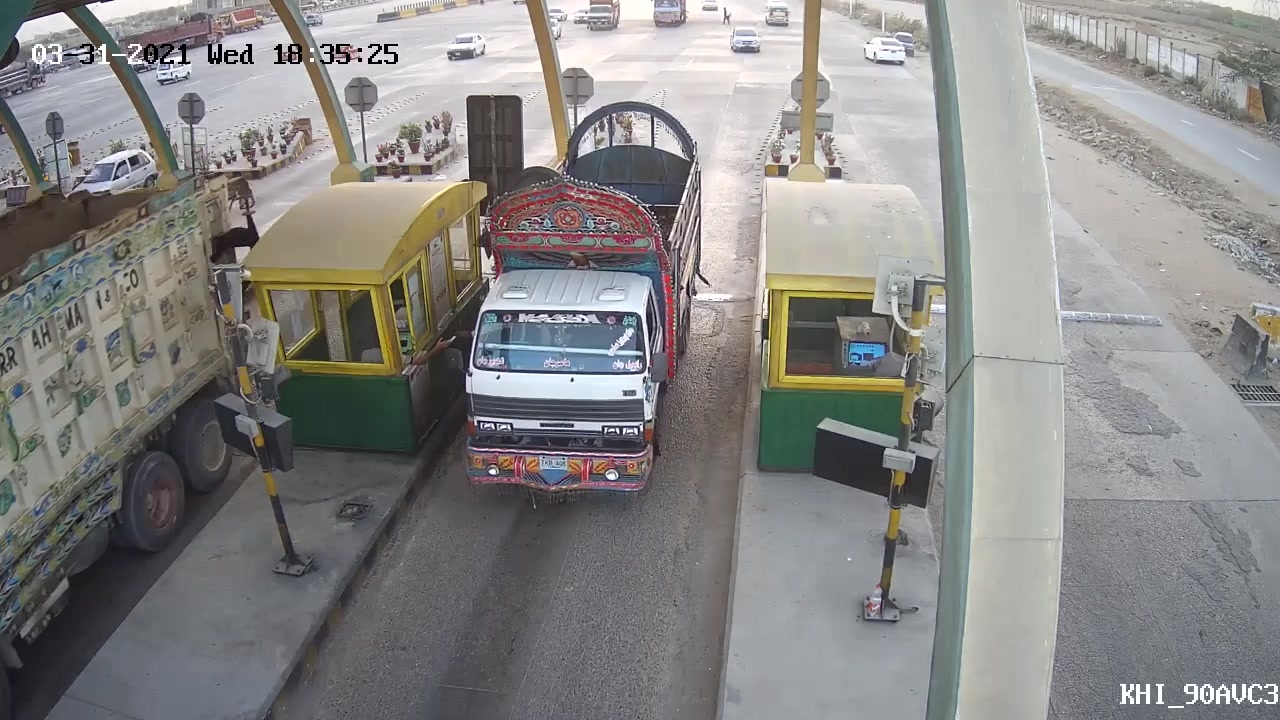F5: (451, 261, 671, 513)
